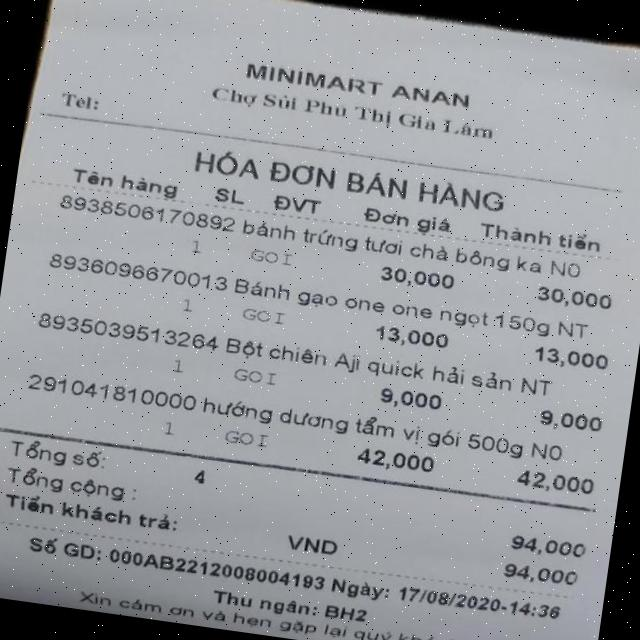Date: (390, 580, 504, 616)
Store_Name: (226, 43, 498, 119)
amount_number: (502, 528, 597, 568)
label_total: (3, 461, 142, 506)
